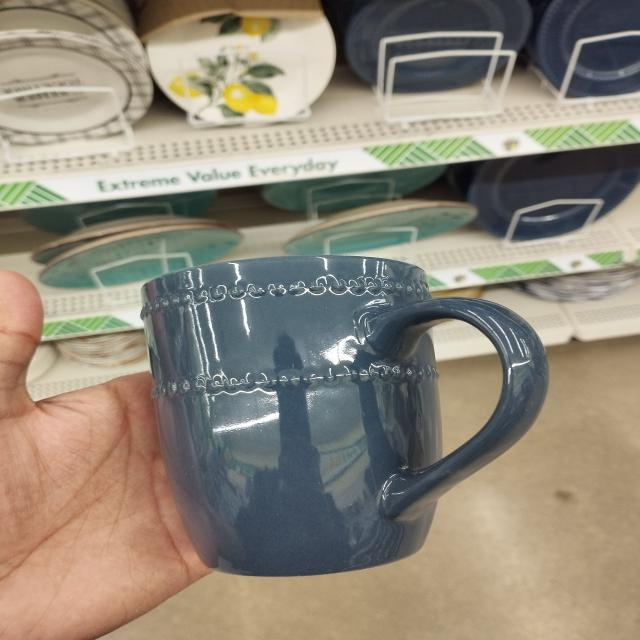Cup: (100, 232, 598, 590)
